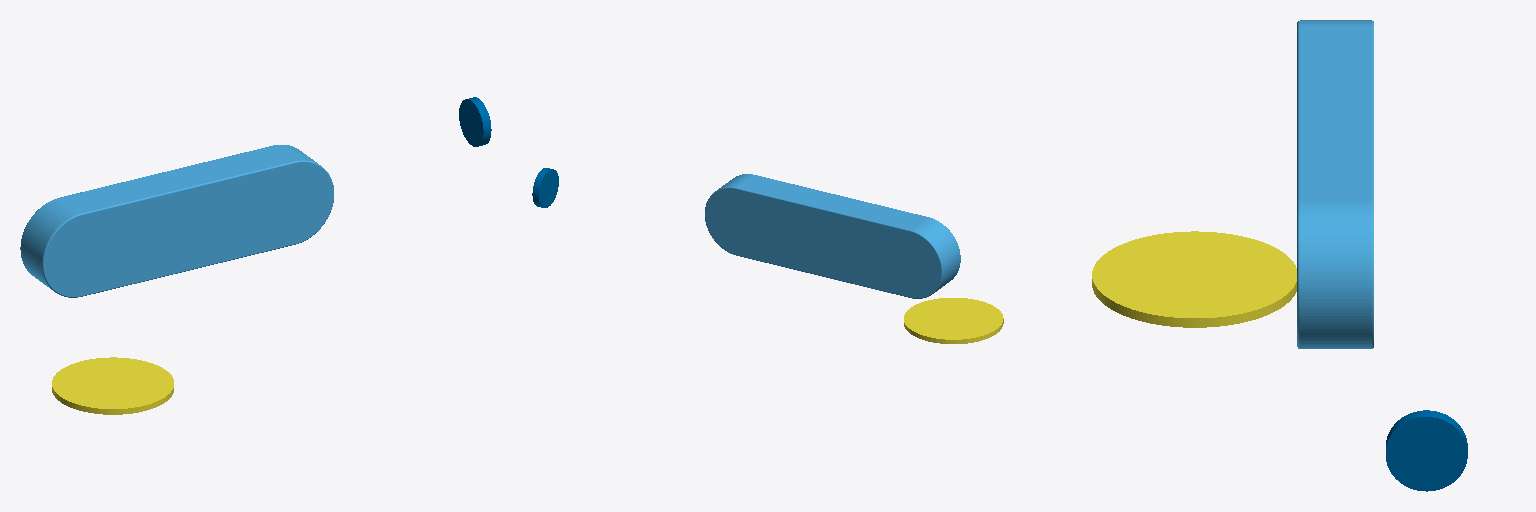
URDF robot description (3r):
<?xml version="1.0"?>
<!-- created with Phobos 1.0.1 "Capricious Choutengan" -->
  <robot name="3r">
    <link name="1">
      <inertial>
        <origin xyz="0 0 0.1" rpy="0 0 0"/>
        <mass value="20.0"/>
        <inertia ixx="2e-05" ixy="0" ixz="0" iyy="2e-05" iyz="0" izz="2e-05"/>
      </inertial>
      <visual name="base-Body">
        <origin xyz="0 0 0.2" rpy="1.5708 0 1.5708"/>
        <geometry>
          <mesh filename="../meshes/stl/base-Body.004.stl" scale="1.0 1.0 1.0"/>
        </geometry>
      </visual>
      <collision>
        <origin xyz="0 0 0.2" rpy="1.5708 0 1.5708"/>
        <geometry>
          <mesh filename="../meshes/stl/base-Body.004.stl" scale="1.0 1.0 1.0"/>
        </geometry>
      </collision>
    </link>

    <link name="2">
      <inertial>
        <origin xyz="0.4 0 0.11464" rpy="0 0 0"/>
        <mass value="20.0"/>
        <inertia ixx="0.17879" ixy="0" ixz="0" iyy="1.95001" iyz="0" izz="1.84613"/>
      </inertial>
      <visual name="arm-Body">
        <origin xyz="0 0 0.18187" rpy="1.5708 0 0"/>
        <geometry>
          <mesh filename="../meshes/stl/arm-Body.005.stl" scale="1.0 1.0 1.0"/>
        </geometry>
      </visual>
      <collision>
        <origin xyz="0 0 0.18187" rpy="1.5708 0 0"/>
        <geometry>
          <mesh filename="../meshes/stl/arm-Body.005.stl" scale="1.0 1.0 1.0"/>
        </geometry>
      </collision>
    </link>

    <link name="3">
      <inertial>
        <origin xyz="0.4 0 0.1622" rpy="0 0 0"/>
        <mass value="20.0"/>
        <inertia ixx="0.18251" ixy="0" ixz="0" iyy="4.86135" iyz="0" izz="4.75376"/>
      </inertial>
      <visual name="arm2-Body">
        <origin xyz="0 0 0.22" rpy="1.5708 0 0"/>
        <geometry>
          <mesh filename="../meshes/stl/arm2-Body.004.stl" scale="1.0 1.0 1.0"/>
        </geometry>
      </visual>
      <collision>
        <origin xyz="0 0 0.22" rpy="1.5708 0 0"/>
        <geometry>
          <mesh filename="../meshes/stl/arm2-Body.004.stl" scale="1.0 1.0 1.0"/>
        </geometry>
      </collision>
    </link>

    <link name="world">
        <inertial>
            <origin xyz="0 0 0" rpy="0 0 0"/>
            <mass value="0.001"/>
            <inertia ixx="2e-05" ixy="0" ixz="0" iyy="2e-05" iyz="0" izz="4e-05"/>
        </inertial>
        <visual name="world-Body">
            <origin xyz="0 0 0" rpy="0 0 0"/>
            <geometry>
            <mesh filename="../meshes/stl/world-Body.003.stl" scale="1.0 1.0 1.0"/>
            </geometry>
        </visual>
        <collision>
            <origin xyz="0 0 0" rpy="0 0 0"/>
            <geometry>
                <mesh filename="../meshes/stl/world-Body.003.stl" scale="1.0 1.0 1.0"/>
            </geometry>
      </collision>
    </link>

    <link name="tool">
      <inertial>
        <origin xyz="0 0 0" rpy="0 0 0"/>
        <mass value="1e-05"/>
        <inertia ixx="2e-05" ixy="0" ixz="0" iyy="2e-05" iyz="0" izz="2e-05"/>
      </inertial>
      <visual name="tool-Body">
        <origin xyz="0 0 0.01881" rpy="1.5708 0 0"/>
        <geometry>
          <mesh filename="../meshes/stl/tool-Body.stl" scale="1.0 1.0 1.0"/>
        </geometry>
      </visual>
      <collision>
        <origin xyz="0 0 0.01881" rpy="1.5708 0 0"/>
            <geometry>
                <mesh filename="../meshes/stl/tool-Body.stl" scale="1.0 1.0 1.0"/>
            </geometry>
      </collision>
    </link>

    <joint name="j1" type="revolute">
      <origin xyz="0 0 0.2" rpy="0 0 0"/>
      <parent link="world"/>
      <child link="1"/>
      <axis xyz="0 0 1.0"/>
      <limit lower="-3.14" upper="3.14" effort="100" velocity="10"/>
    </joint>

    <joint name="j2" type="revolute">
      <origin xyz="0 0.16666 0.2" rpy="-1.5708 0 0"/>
      <parent link="1"/>
      <child link="2"/>
      <axis xyz="0 0 1.0"/>
      <limit lower="-3.14" upper="3.14" effort="100" velocity="10"/>
    </joint>

    <joint name="j3" type="revolute">
      <origin xyz="0.8 0 0.13334" rpy="0 0 0"/>
      <parent link="2"/>
      <child link="3"/>
      <axis xyz="0 0 1.0"/>
      <limit lower="-3.14" upper="3.14" effort="100" velocity="10"/>
    </joint>

    <joint name="jtool" type="revolute">
      <origin xyz="0.82 0 0.15" rpy="1.5708 0 1.5708"/>
      <parent link="3"/>
      <child link="tool"/>
      <axis xyz="0 0 1.0"/>
      <limit lower="-3.14" upper="3.14" effort="100" velocity="10"/>
    </joint>

  </robot>

--- Facts derived from the render (not from the file) ---
3 views of the same robot in one strip: view 1: azimuth 30°, elevation 25°; view 2: azimuth 150°, elevation 25°; view 3: azimuth 270°, elevation 25° (orthographic).
Robot: 3r — 5 links, 4 joints (4 revolute); root link world; default pose: all joints at 0.
Links seen in each view (by area): view 1: 2, world, tool; view 2: 2, world, tool; view 3: 2, world, tool.
Link boxes in pixels (x1,y1,x2,y2): 2: [20, 145, 333, 297]; world: [52, 357, 173, 414]; tool: [459, 97, 491, 146]; 2: [705, 174, 960, 298]; world: [904, 298, 1003, 343]; tool: [532, 168, 558, 207]; 2: [1297, 20, 1373, 348]; world: [1092, 231, 1296, 327]; tool: [1386, 410, 1467, 491].
Bounding box of the posed robot: 1.84 × 0.73 × 0.55 m (x, y, z).
3 mesh visuals loaded from 5 distinct referenced files (3 binary STL); not drawn: 2 (reference not matched to a file when rendering).